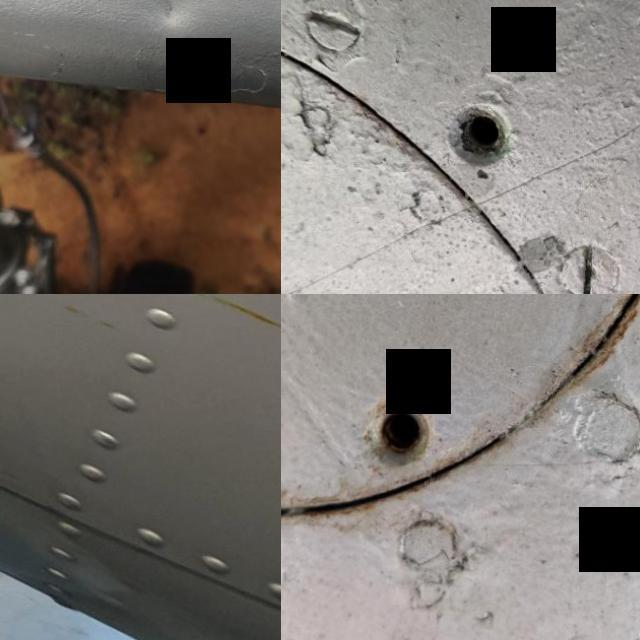Dent: (109, 0, 225, 61)
Missing_Fastener: (416, 76, 540, 202), (334, 375, 457, 494)
